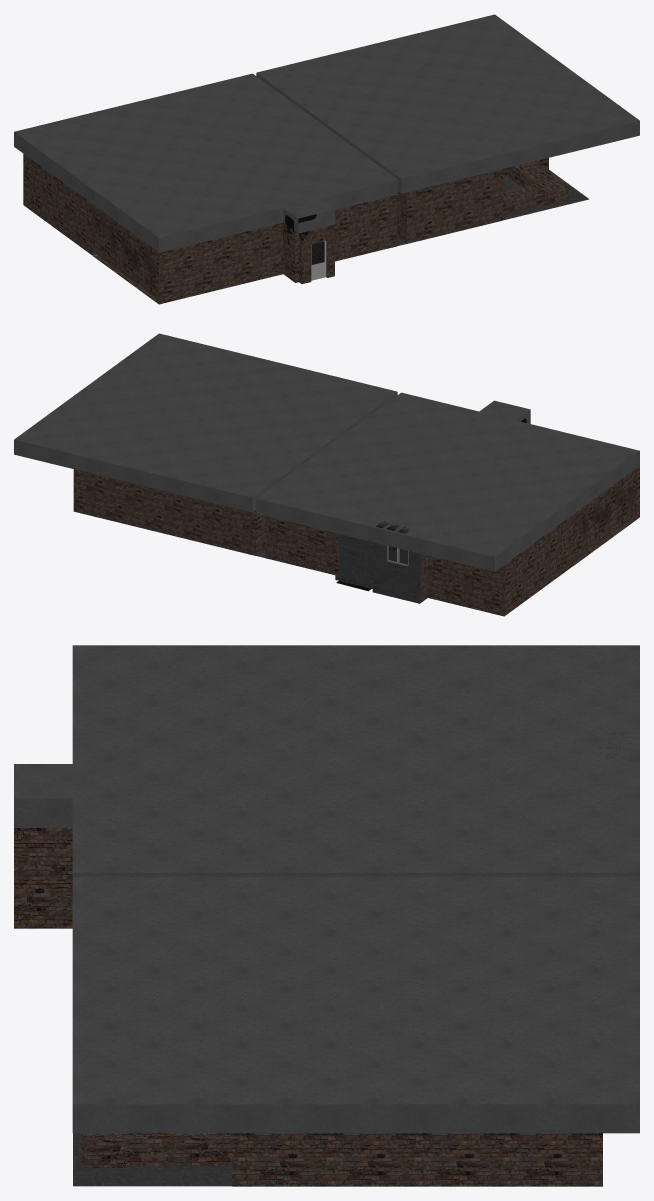
Rendered from basement_ext.glb.
3 renders of one model, top to bottom at view 1: azimuth 30°, elevation 25°; view 2: azimuth 150°, elevation 25°; view 3: azimuth 270°, elevation 25°, orthographic. The views are drawn at different scales.
Parts seen in each view (by area): view 1: Потолок.005, Потолок.001, Cube.008, Cube.013, Cube.001, Cube.006, Cube.005, Потолок.007, Plane.004, doorframe.002; view 2: Потолок.005, Потолок.001, Cube.001, Cube.013, Cube.006, Cube.002, Cube.004, Потолок.007; view 3: Потолок.001, Потолок.005, Cube.013, Cube.005, Потолок.007, Plane.004.
Part boxes in pixels (bbox=[...]): Потолок.005: bbox=[14, 73, 397, 252]; Потолок.001: bbox=[256, 14, 639, 193]; Cube.008: bbox=[156, 195, 397, 304]; Cube.013: bbox=[397, 158, 569, 243]; Cube.001: bbox=[23, 154, 97, 255]; Cube.006: bbox=[93, 208, 396, 304]; Cube.005: bbox=[283, 223, 334, 283]; Потолок.007: bbox=[283, 199, 334, 233]; Plane.004: bbox=[397, 169, 588, 245]; doorframe.002: bbox=[311, 241, 326, 280]; Потолок.005: bbox=[256, 392, 639, 571]; Потолок.001: bbox=[14, 333, 397, 512]; Cube.001: bbox=[265, 514, 573, 616]; Cube.013: bbox=[73, 469, 265, 555]; Cube.006: bbox=[573, 469, 638, 565]; Cube.002: bbox=[372, 542, 421, 603]; Cube.004: bbox=[339, 534, 371, 588]; Потолок.007: bbox=[479, 400, 530, 423]; Потолок.001: bbox=[72, 876, 639, 1133]; Потолок.005: bbox=[72, 645, 639, 876]; Cube.013: bbox=[81, 1133, 602, 1186]; Cube.005: bbox=[14, 828, 72, 928]; Потолок.007: bbox=[14, 764, 72, 827]; Plane.004: bbox=[73, 1133, 232, 1186].
Size of the model in its own units: 27.35 by 3.62 by 15.77.
Materials: 13 (11 with a texture image).
